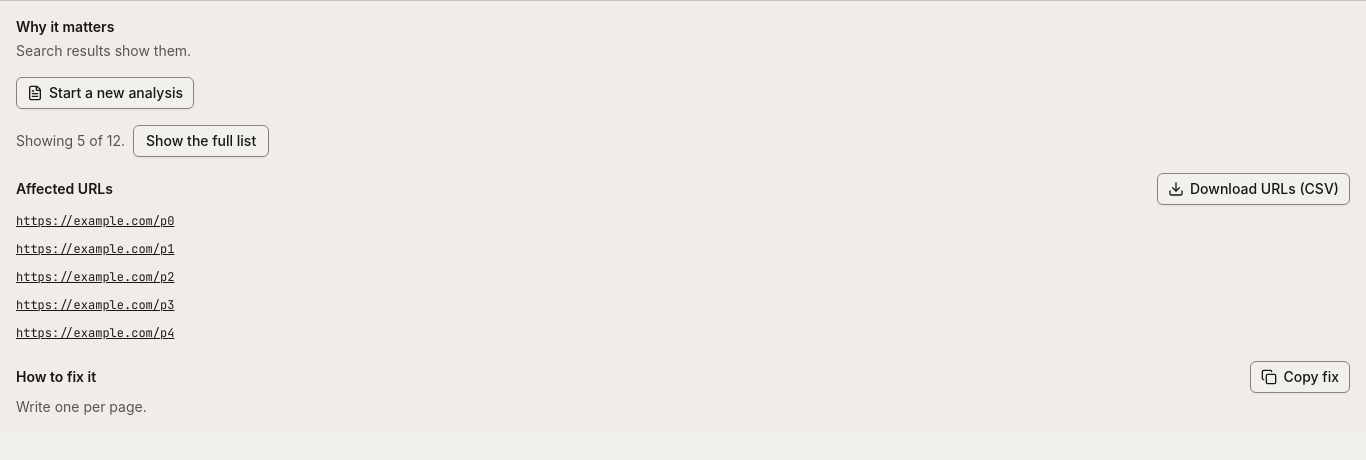
Test case: IssueDetail — previewed lists › downloads nothing when the full list cannot load
Step 1. Click the button with test id "report-issue-download-urls" → coordinates (1254, 189), box [1157,173,1350,205]
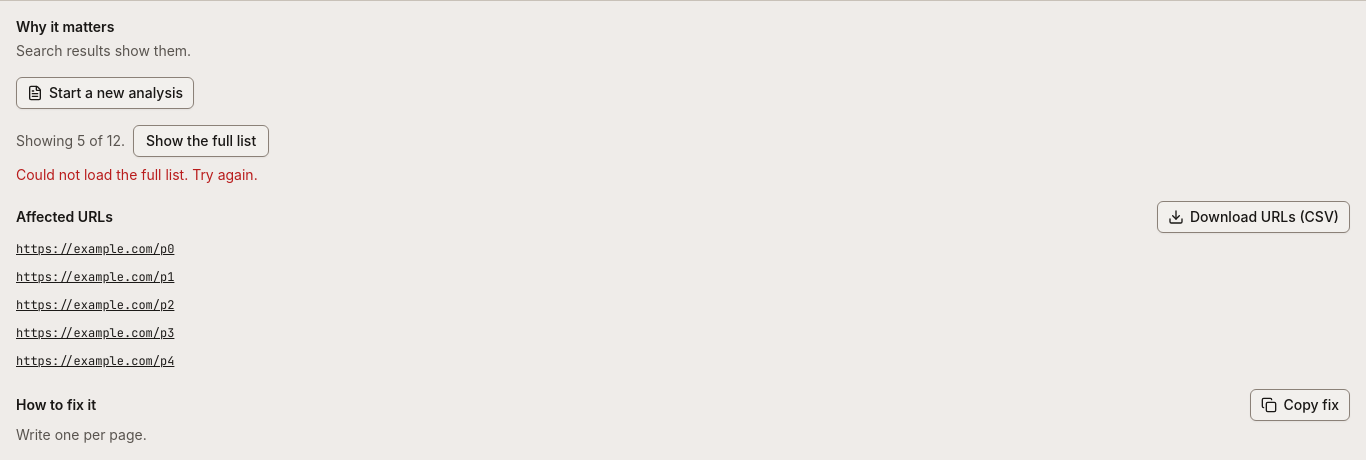
Expected: the message "Could not load the full list. Try again." is shown, [16,166,258,183]
